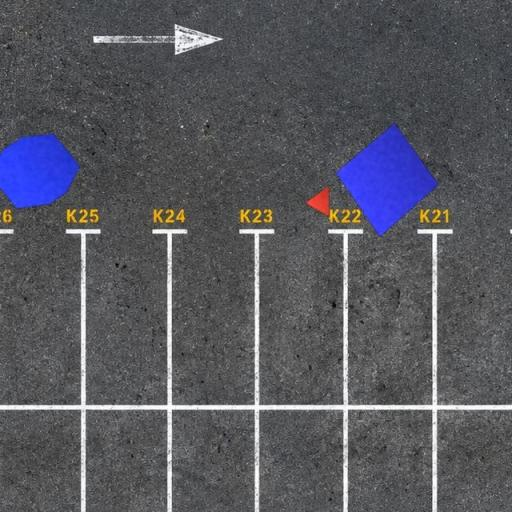BLUE_SQUARE: (335, 122, 439, 238)
